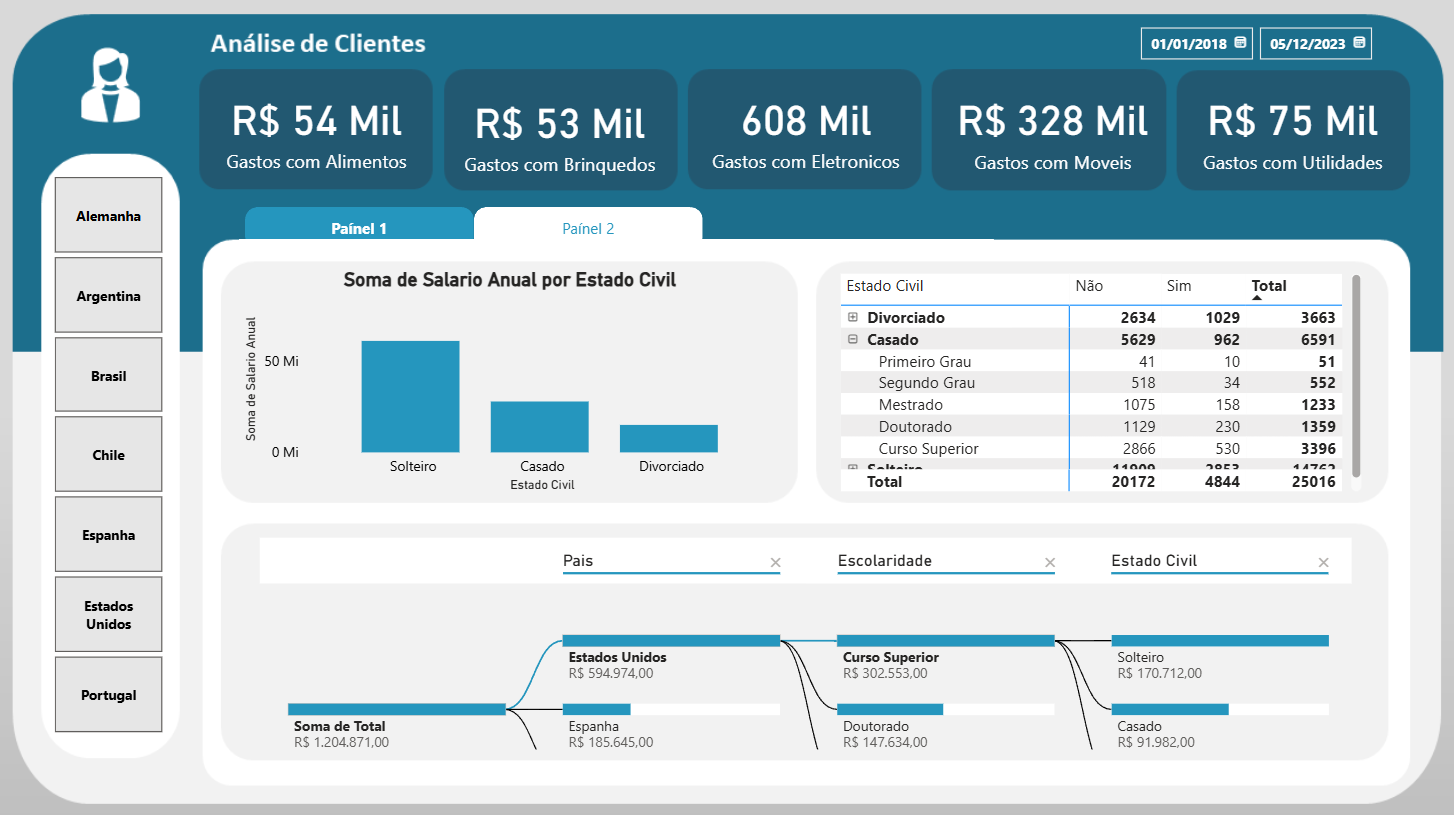

The page's visual inventory and layout, read from the dashboard file:
{"tool":"powerbi","page":{"name":"Paínel 2","canvas":[1280,720],"ordinal":1},"visuals":[{"type":"card","fields":{"Values":["Sum(dados_marketing.Gasto com Alimentos)"]},"box":[189.7,68.1,182.9,90.5],"z":0},{"type":"card","fields":{"Values":["Sum(dados_marketing.Gasto com Brinquedos)"]},"box":[388.6,58.2,209.6,114.3],"z":1000},{"type":"card","fields":{"Values":["Sum(dados_marketing.Gasto com Eletronicos)"]},"box":[613,52.9,190.6,119.6],"z":2000},{"type":"card","fields":{"Values":["Sum(dados_marketing.Gasto com Moveis)"]},"box":[812,38.1,225.5,150.3],"z":3000},{"type":"card","fields":{"Values":["Sum(dados_marketing.Gasto com Utilidades)"]},"box":[1021.7,38.1,225.5,150.3],"z":4000},{"type":"slicer","fields":{"Values":["dados_marketing.Pais"]},"box":[26.5,148.2,144,498.7],"z":5000},{"type":"slicer","fields":{"Values":["dados_marketing.Data Cadastro"]},"box":[987.8,14.8,230.8,38.1],"z":6000},{"type":"pageNavigator","box":[218.1,182.1,400.2,37.1],"z":7000},{"type":"shape","box":[212.8,209.6,659.6,16.9],"z":8000},{"type":"columnChart","fields":{"Y":["Sum(dados_marketing.Salario Anual)"],"Category":["dados_marketing.Estado Civil"]},"box":[212.8,235,473.2,200.1],"z":9000},{"type":"decompositionTreeVisual","fields":{"Analyze":["Sum(dados_marketing.Total)"],"ExplainBy":["dados_marketing.Pais","dados_marketing.Escolaridade","dados_marketing.Estado Civil"]},"box":[226.6,465.8,964.5,194.8],"z":10000},{"type":"pivotTable","fields":{"Rows":["dados_marketing.Estado Civil","dados_marketing.Escolaridade"],"Values":["Sum(dados_marketing.Numero Compras Total)"],"Columns":["dados_marketing.Comprou"]},"box":[733.7,235,464.8,200.1],"z":11000}]}

Visuals, with their boxes in screenshot pixels (x1, y1, x2, y2), scaled from the page's 1280x720 canvas onto the 1454x815 screenshot:
card - Sum(dados_marketing.Gasto com Alimentos): (215, 77, 423, 180)
card - Sum(dados_marketing.Gasto com Brinquedos): (441, 66, 680, 195)
card - Sum(dados_marketing.Gasto com Eletronicos): (696, 60, 913, 195)
card - Sum(dados_marketing.Gasto com Moveis): (922, 43, 1179, 213)
card - Sum(dados_marketing.Gasto com Utilidades): (1161, 43, 1417, 213)
slicer - dados_marketing.Pais: (30, 168, 194, 732)
slicer - dados_marketing.Data Cadastro: (1122, 17, 1384, 60)
pageNavigator: (248, 206, 702, 248)
shape: (242, 237, 991, 256)
columnChart - Sum(dados_marketing.Salario Anual) x dados_marketing.Estado Civil: (242, 266, 779, 493)
decompositionTreeVisual - Sum(dados_marketing.Total) x dados_marketing.Pais: (257, 527, 1353, 748)
pivotTable - dados_marketing.Estado Civil x dados_marketing.Escolaridade: (833, 266, 1361, 493)
